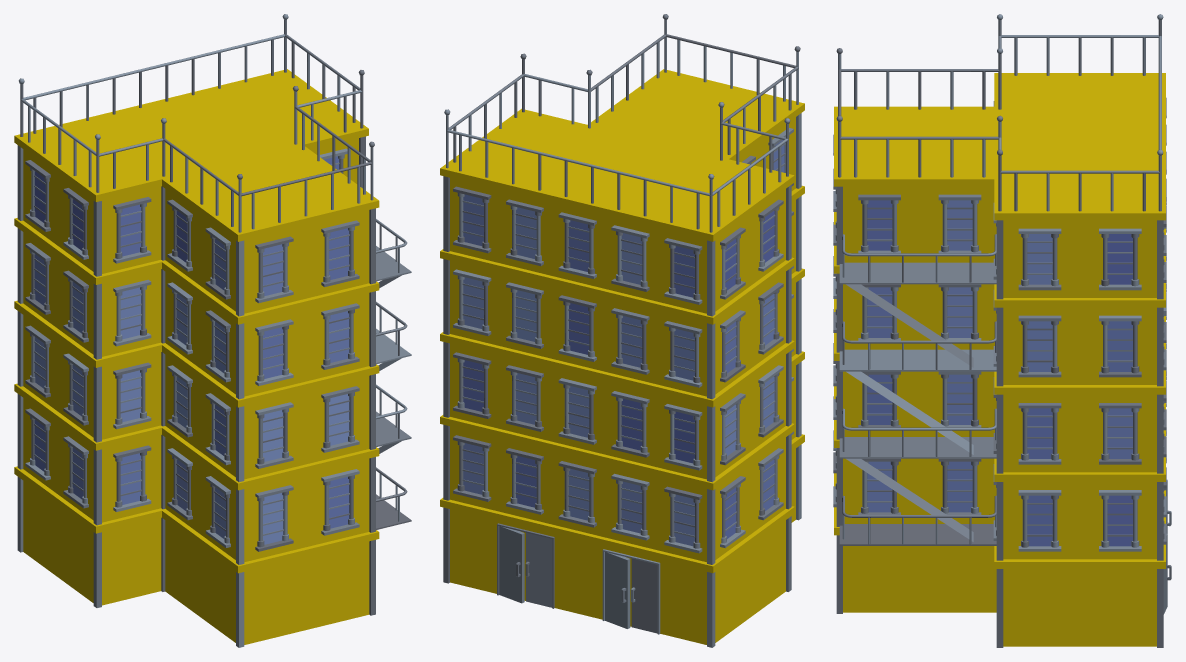
File: Building Procedural.004.fbx
The picture shows the model from 3 angles, left to right: view 1: azimuth 30°, elevation 25°; view 2: azimuth 150°, elevation 25°; view 3: azimuth 270°, elevation 25°; orthographic projection. The views are drawn at different scales.
Parts seen in each view (by area): view 1: Building Procedural.004; view 2: Building Procedural.004; view 3: Building Procedural.004.
Boxes of the visible parts, bbox=[...] form: Building Procedural.004: bbox=[14, 14, 411, 647]; Building Procedural.004: bbox=[440, 14, 804, 647]; Building Procedural.004: bbox=[833, 14, 1171, 647].
Size of the model in its own units: 1040 by 1710 by 1056.
